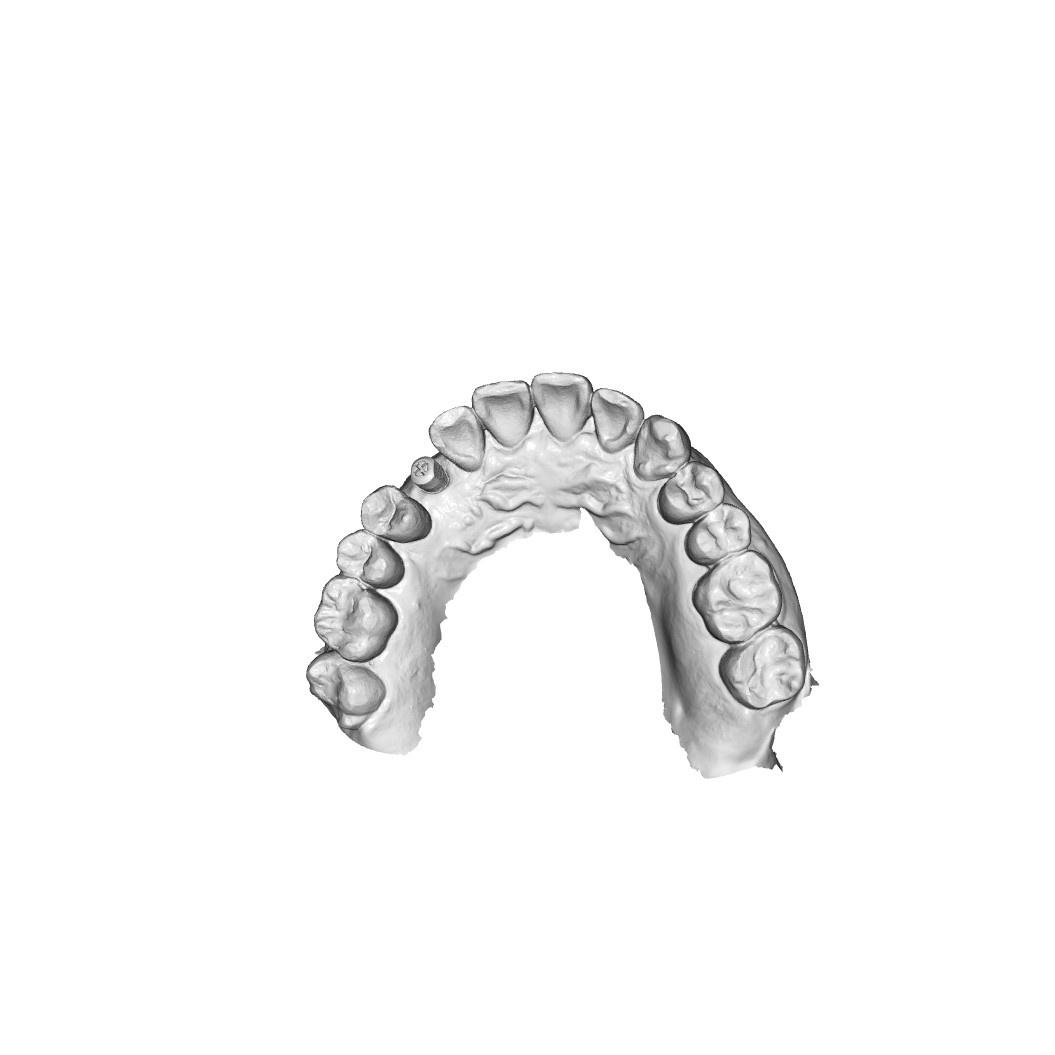canine: (632, 414, 689, 478)
implant_plus: (410, 456, 449, 490)
incisor: (528, 369, 592, 442), (472, 377, 534, 447), (428, 405, 489, 472), (592, 385, 643, 452)
molar: (719, 627, 807, 711), (697, 557, 779, 640), (313, 579, 396, 655), (306, 655, 387, 729)
premolar: (354, 485, 432, 543), (658, 465, 722, 527), (336, 531, 403, 590), (684, 504, 750, 560)
